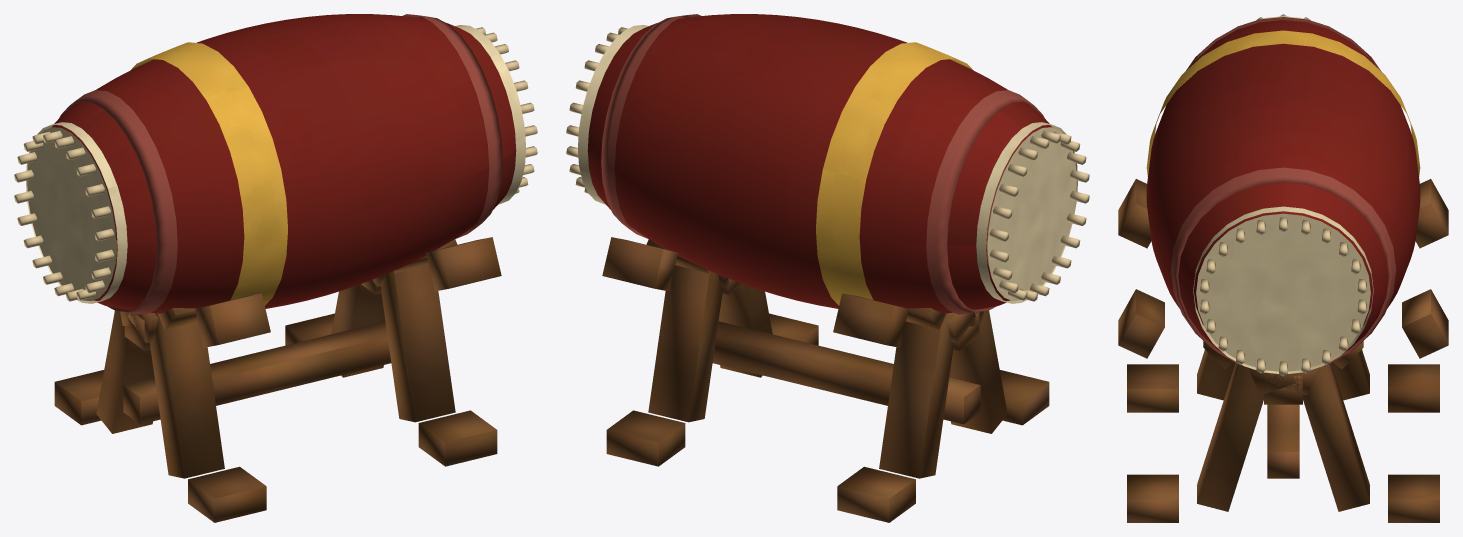
The model's file is gourd-prop-drum.glb.
3 renders of one model, left to right at view 1: azimuth 30°, elevation 25°; view 2: azimuth 150°, elevation 25°; view 3: azimuth 270°, elevation 25°, orthographic. The views are drawn at different scales.
Visible parts, largest first — view 1: barrel, stand, band, heada, ridges, pegs, hide-rima, hide-rimb; view 2: barrel, stand, band, heada, ridges, pegs, hide-rima, hide-rimb; view 3: barrel, stand, headb, ridges, band, pegs, hide-rimb.
Part boxes in pixels (x1,y1,x2,y2): barrel: (51,14,516,313); stand: (54,237,501,522); band: (131,42,287,305); heada: (27,127,116,301); ridges: (59,14,502,314); pegs: (14,27,537,301); hide-rima: (26,122,127,303); hide-rimb: (455,25,525,204); barrel: (587,14,1052,313); stand: (602,237,1049,522); band: (816,42,972,305); heada: (987,127,1076,301); ridges: (601,14,1044,314); pegs: (566,27,1089,301); hide-rima: (976,122,1077,303); hide-rimb: (578,25,648,204); barrel: (1146,20,1420,351); stand: (1118,179,1448,522); headb: (1196,213,1370,371); ridges: (1170,17,1396,365); band: (1146,30,1420,176); pegs: (1200,14,1366,376); hide-rimb: (1193,206,1373,373).
Bounding box in the file's own units: 0.0714 × 0.0611 × 0.0476.
Materials: 6 (4 with a texture image).
